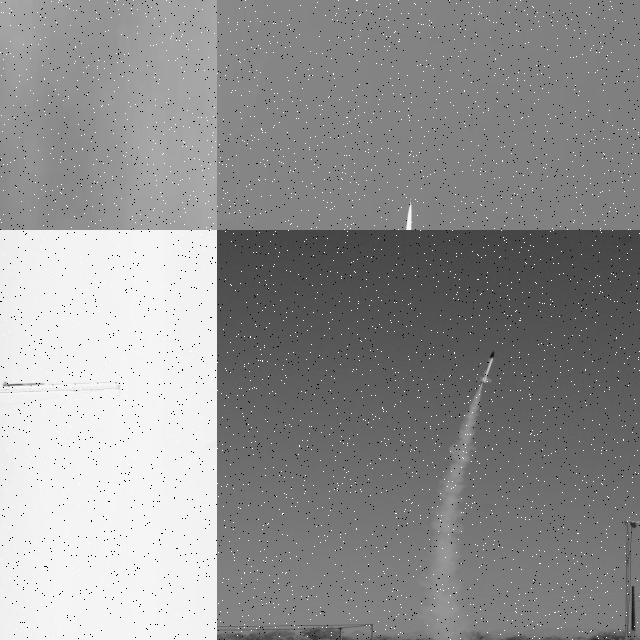Rocket: (476, 349, 495, 384), (3, 382, 46, 387), (410, 198, 412, 206)
